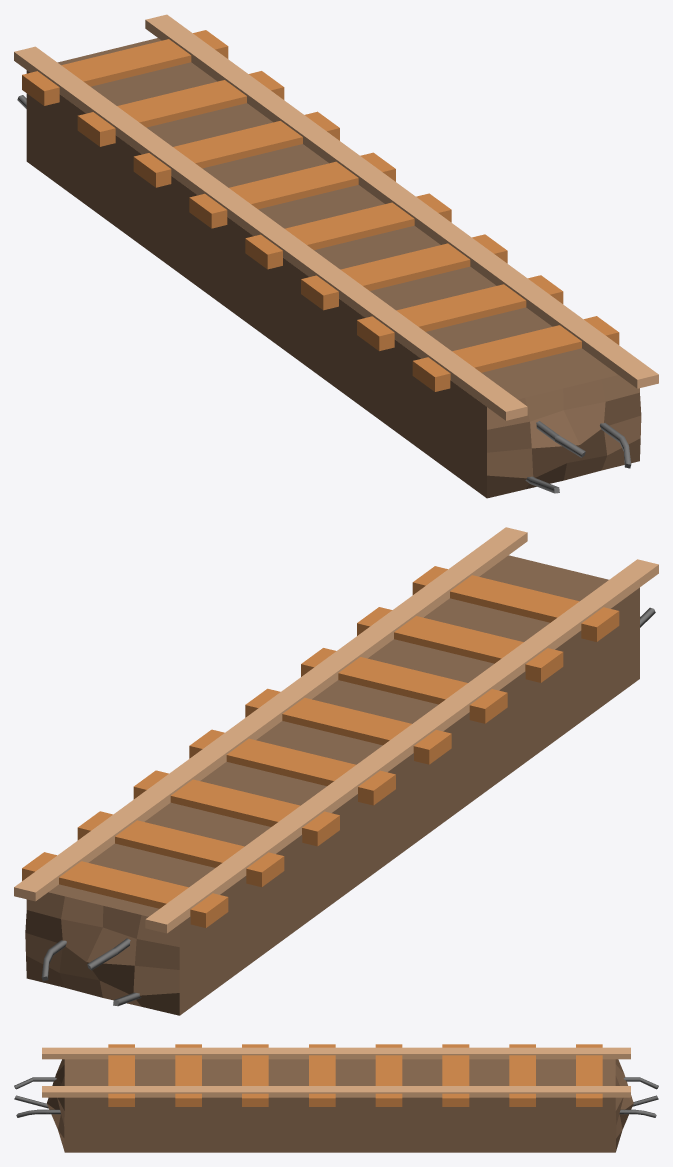
File: BrokenTrack 2.fbx
The picture shows the model from 3 angles, top to bottom: view 1: azimuth 30°, elevation 25°; view 2: azimuth 150°, elevation 25°; view 3: azimuth 270°, elevation 25°; orthographic projection. The views are drawn at different scales.
Visible parts, largest first — view 1: Broken Track 2, TrackPlys1.001, Tracks1.001, MetalBars.001; view 2: Broken Track 2, TrackPlys1.001, Tracks1.001, MetalBars.001; view 3: Broken Track 2, Tracks1.001, TrackPlys1.001, MetalBars.001.
Boxes of the visible parts, box(x1,y1,x2,y2) form: Broken Track 2: box(26, 38, 641, 498); TrackPlys1.001: box(22, 30, 619, 391); Tracks1.001: box(14, 14, 658, 420); MetalBars.001: box(17, 95, 631, 493); Broken Track 2: box(25, 555, 639, 1015); TrackPlys1.001: box(22, 566, 619, 927); Tracks1.001: box(14, 527, 658, 933); MetalBars.001: box(41, 607, 655, 1006); Broken Track 2: box(46, 1059, 633, 1152); Tracks1.001: box(42, 1047, 630, 1097); TrackPlys1.001: box(108, 1044, 602, 1106); MetalBars.001: box(14, 1077, 658, 1117).
Bounding box in the file's own units: 169 × 88.34 × 854.
